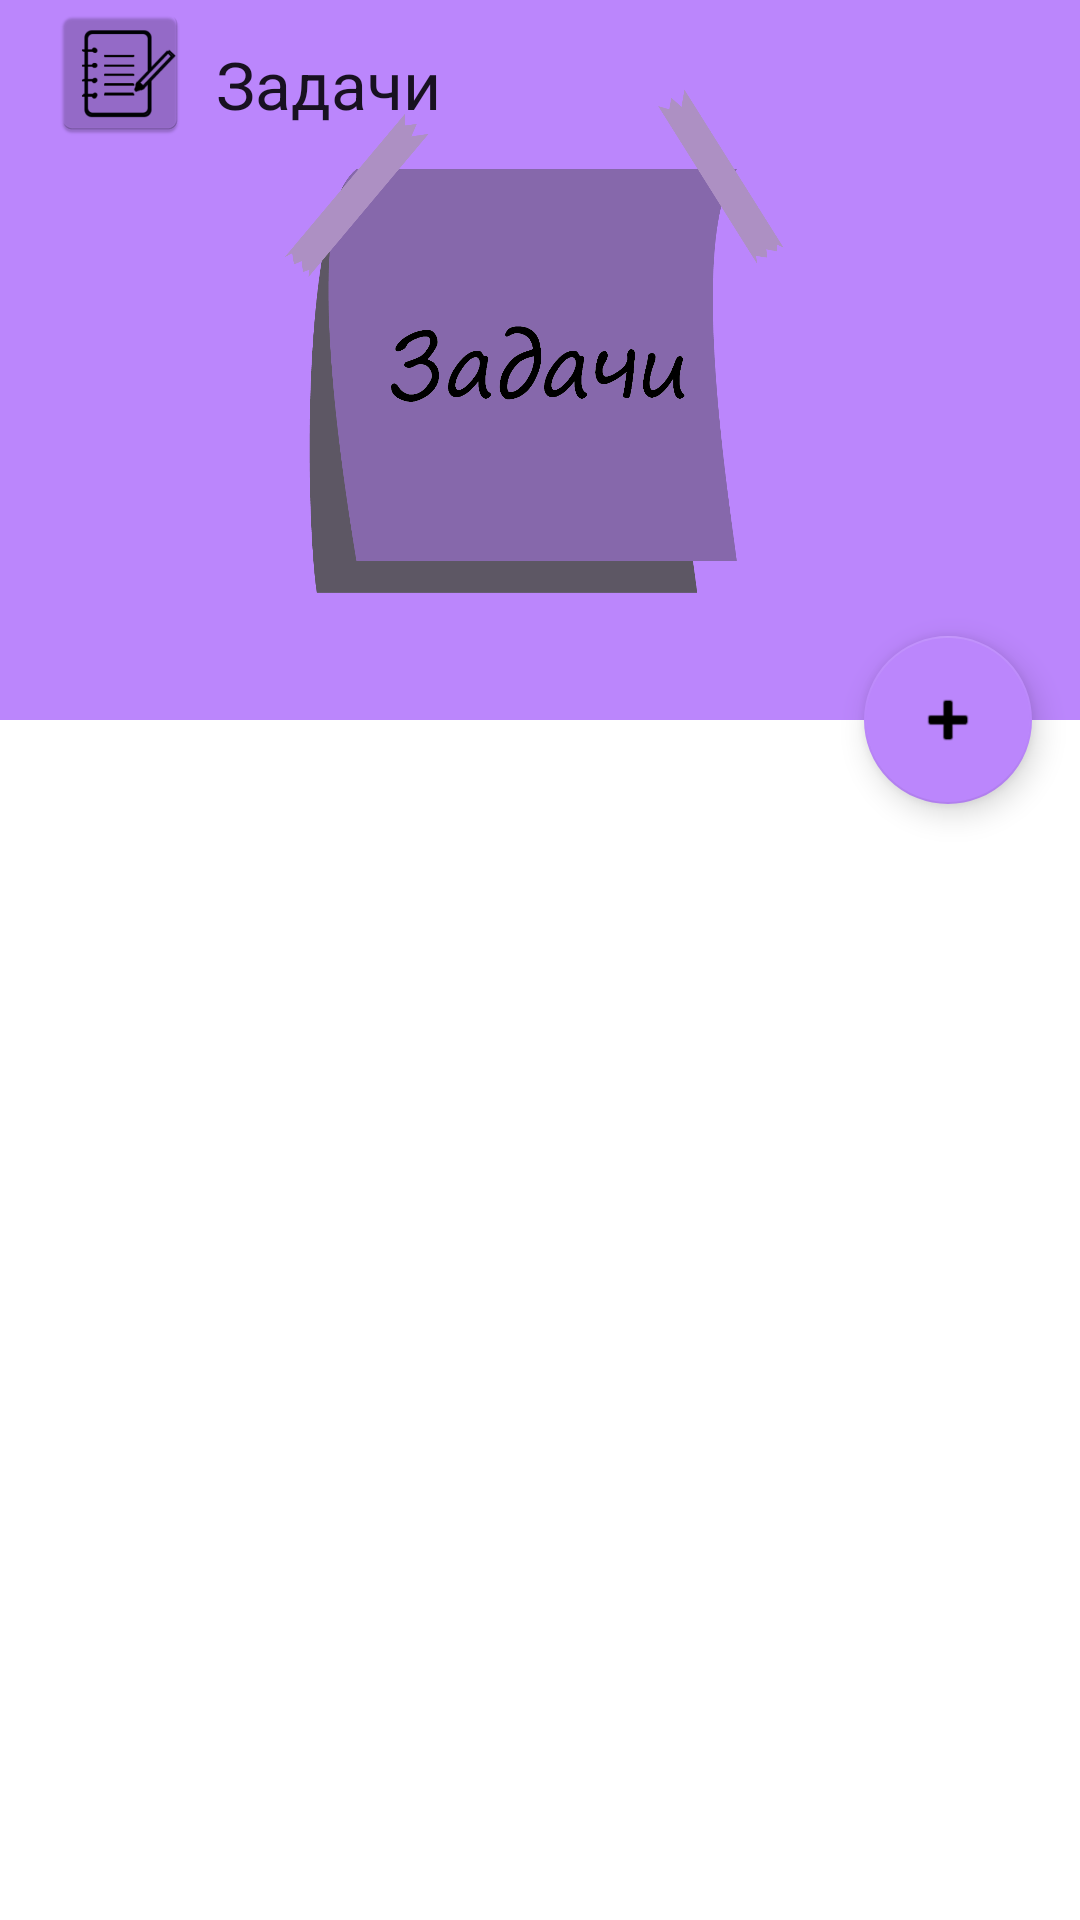

Point at icon controls on the screen. Image size 1080px x 1920px, points as (x=x, y=y).
add: (x=948, y=720)
